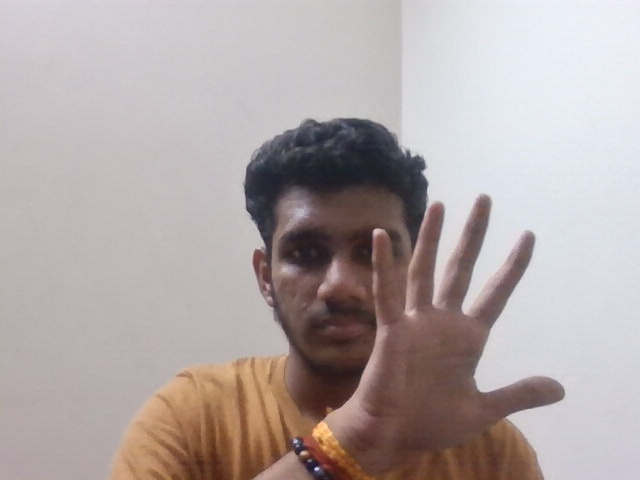hello: (360, 191, 571, 455)
